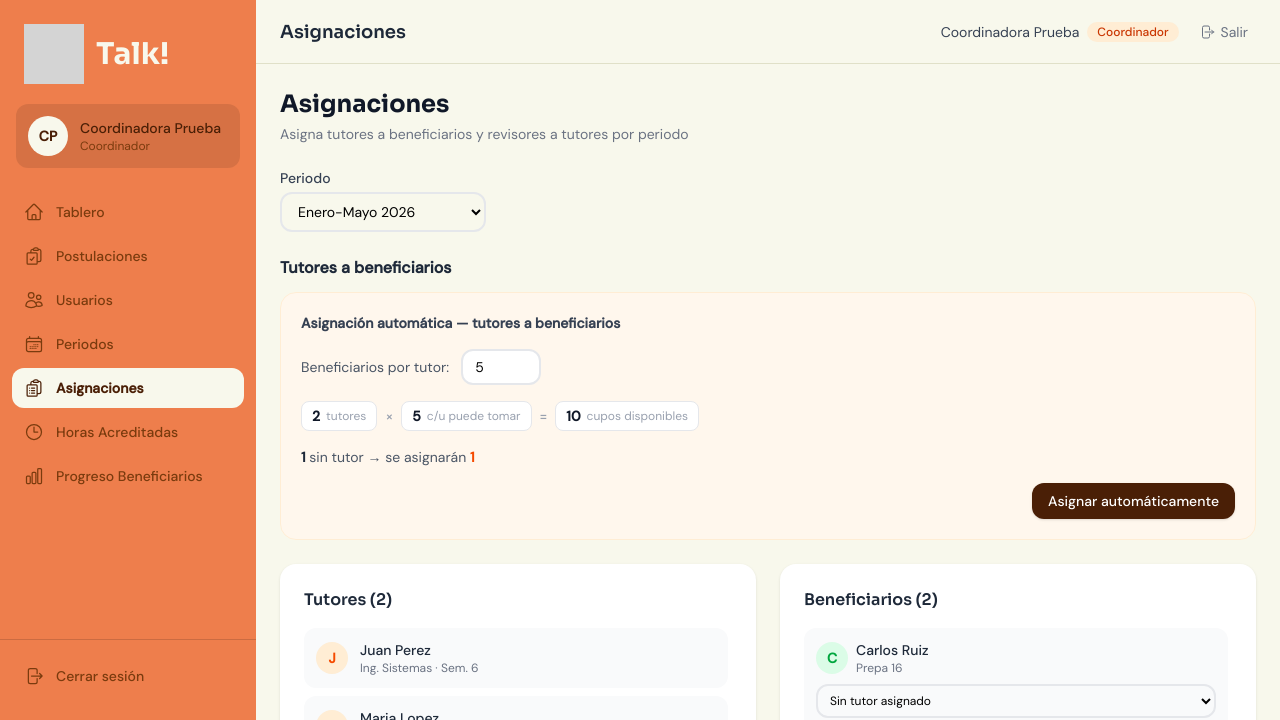
Test: Asignaciones › filters asignaciones by selected periodo
// Change to periodo 2
Select "Agosto-Diciembre 2025" in the 1st dropdown at (383, 212), box [280,192,486,232]
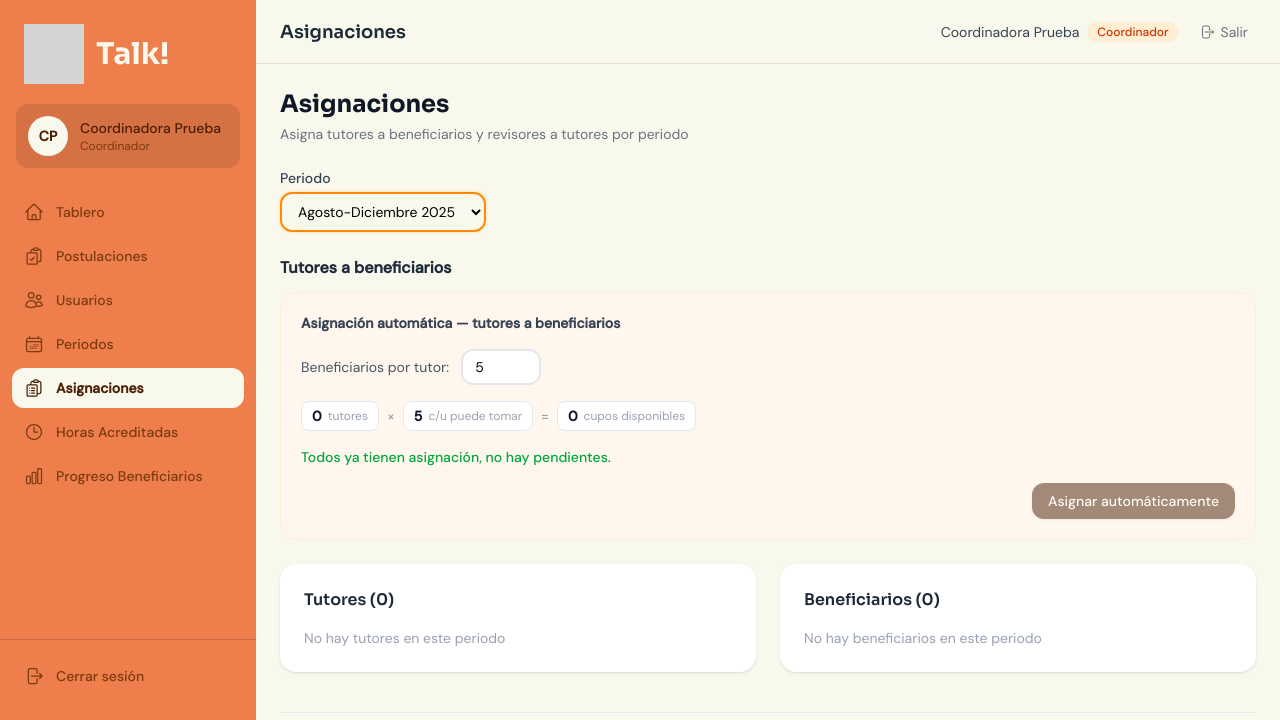
Now the text "No hay tutores en este periodo" is shown, box [304,629,505,647]
